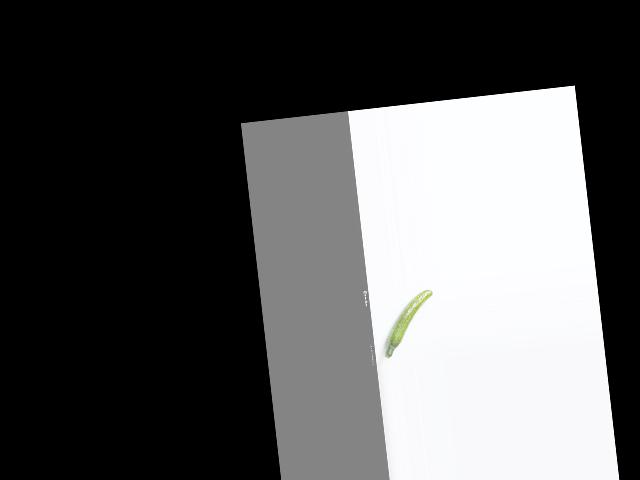cucumber: (378, 289, 439, 359)
